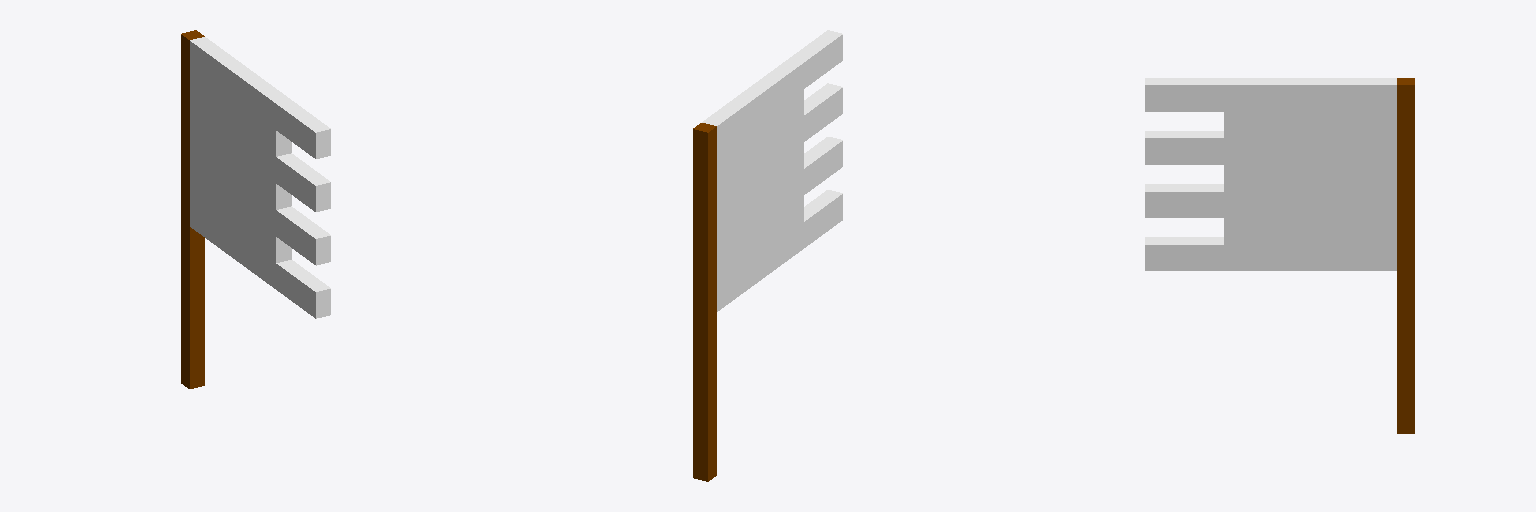
The picture shows the model from 3 angles: view 1: azimuth 30°, elevation 25°; view 2: azimuth 150°, elevation 25°; view 3: azimuth 270°, elevation 25°; orthographic projection.
Parts seen in each view (by area): view 1: Flag03; view 2: Flag03; view 3: Flag03.
Boxes of the visible parts, <box> form: Flag03: <box>181,30,330,388</box>; Flag03: <box>693,30,842,481</box>; Flag03: <box>1145,78,1414,433</box>.
Bounding box in the file's own units: 0.2 × 4.28 × 3.01.
Materials: 2 (1 with a texture image).